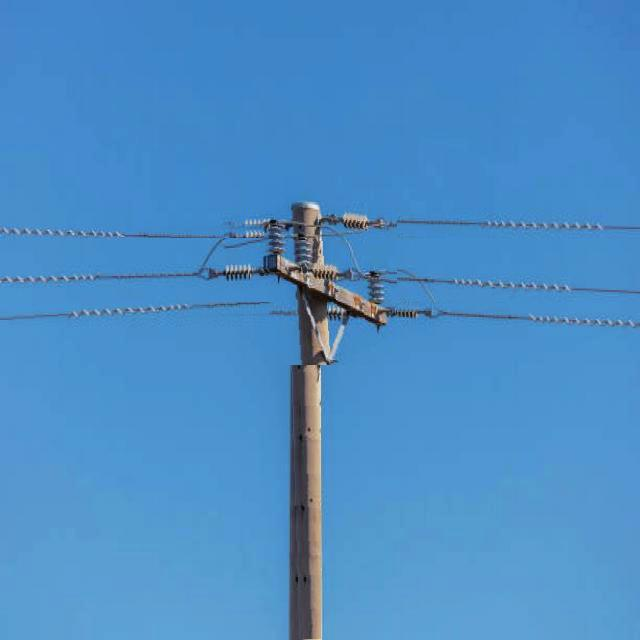crossarm: (266, 203, 397, 365), (322, 212, 428, 219)
pole: (292, 287, 321, 640)
wire: (0, 302, 636, 325), (1, 224, 529, 238)
